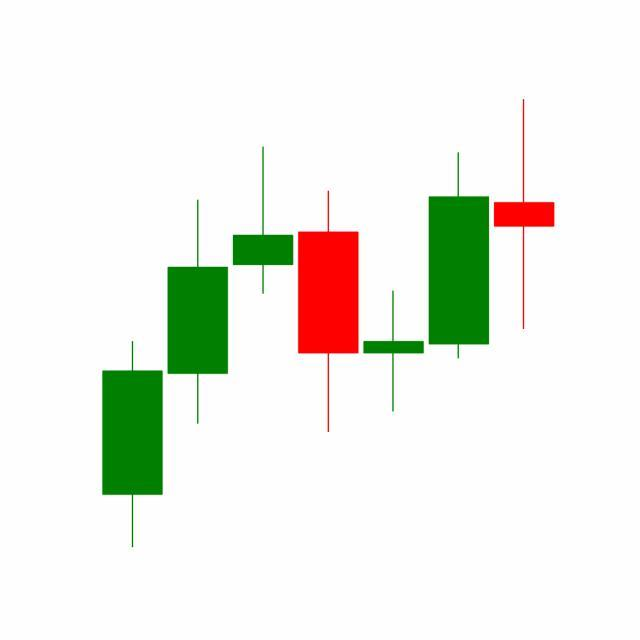Hikkake Pattern: (165, 144, 492, 437)
